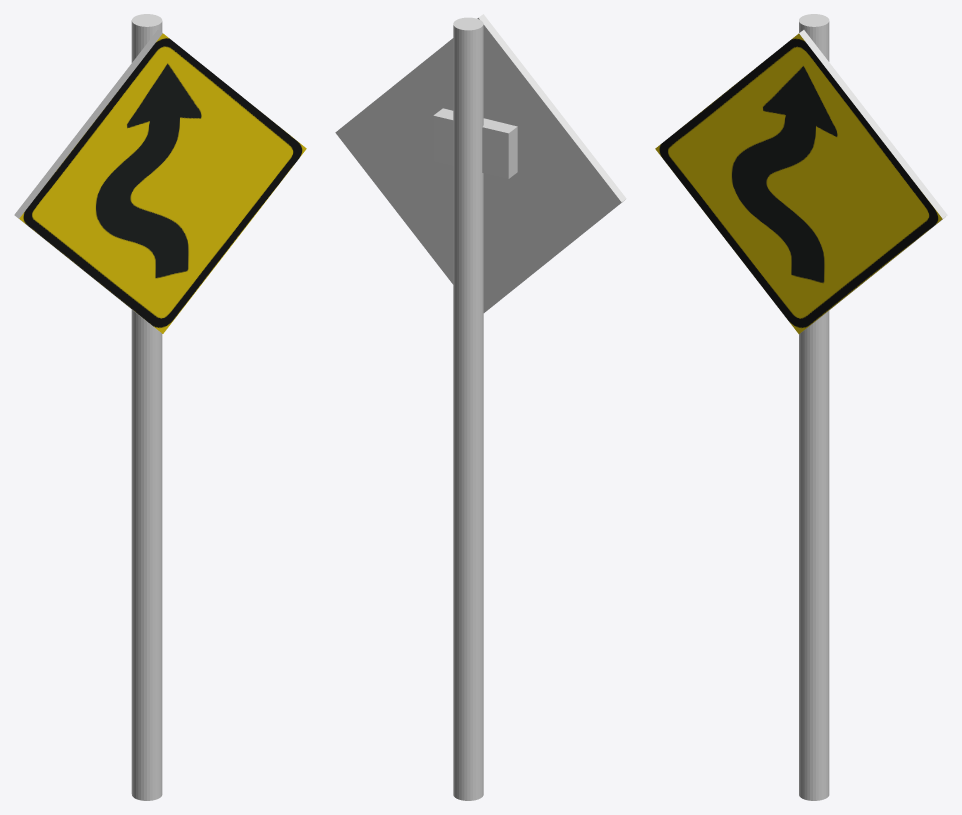
Rendered from PeringBerkelok.fbx.
3 renders of one model, left to right at view 1: azimuth 30°, elevation 25°; view 2: azimuth 150°, elevation 25°; view 3: azimuth 330°, elevation 25°, orthographic.
Parts seen in each view (by area): view 1: Cube.002, Cylinder.002; view 2: Cube.002, Cylinder.002, Cube.001; view 3: Cube.002, Cylinder.002.
Part boxes in pixels (left/top/right/bottom): Cube.002: left=14, top=30, right=306, bottom=333; Cylinder.002: left=131, top=14, right=162, bottom=800; Cube.002: left=335, top=14, right=626, bottom=312; Cylinder.002: left=453, top=17, right=483, bottom=800; Cube.001: left=433, top=108, right=517, bottom=178; Cube.002: left=655, top=30, right=947, bottom=333; Cylinder.002: left=799, top=14, right=829, bottom=800.
Size of the model in its own units: 283 by 727 by 39.46.
